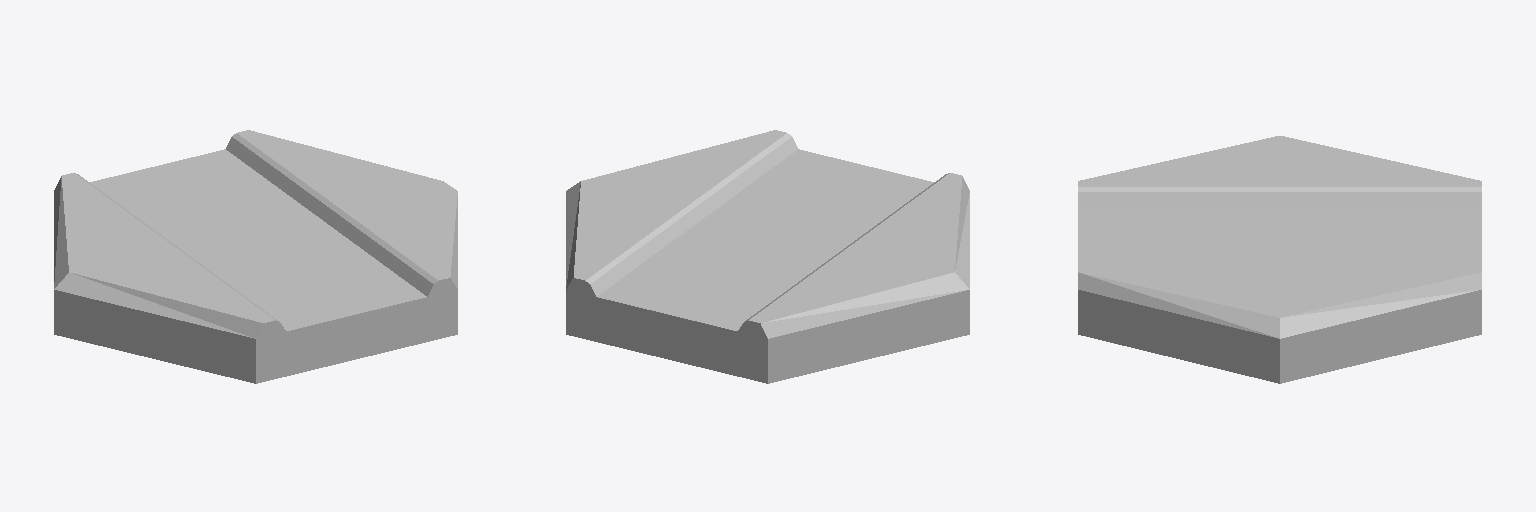
File: gerade.obj
3 views of the same model, side by side, from view 1: azimuth 30°, elevation 25°; view 2: azimuth 150°, elevation 25°; view 3: azimuth 270°, elevation 25° (orthographic).
Visible parts, largest first — view 1: gerade tracks uv_done_textures_needed og; view 2: gerade tracks uv_done_textures_needed og; view 3: gerade tracks uv_done_textures_needed og.
Part boxes in pixels (left/top/right/bottom): gerade tracks uv_done_textures_needed og: left=54, top=130, right=457, bottom=383; gerade tracks uv_done_textures_needed og: left=566, top=130, right=969, bottom=383; gerade tracks uv_done_textures_needed og: left=1078, top=136, right=1481, bottom=383.
Bounding box in the file's own units: 2 × 0.2777 × 1.73.